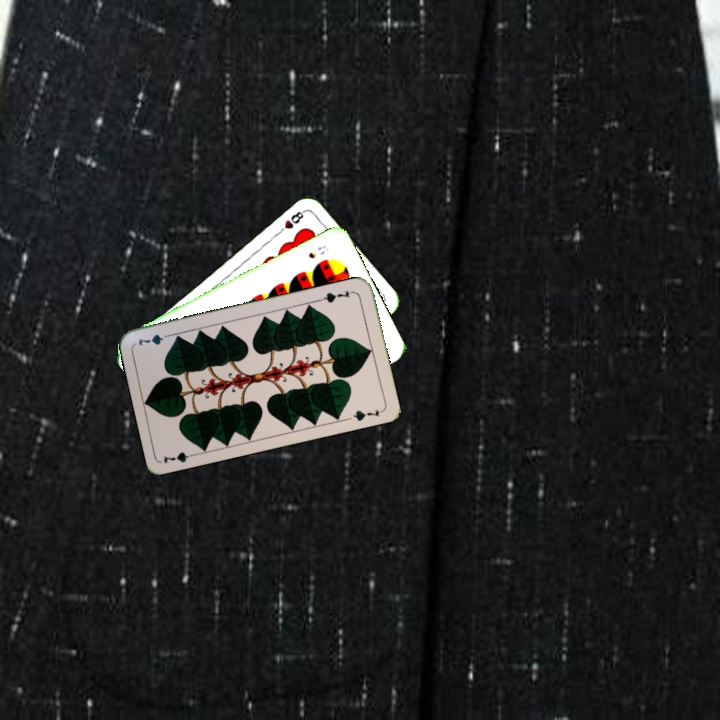G7: (317, 286, 357, 306), (160, 448, 201, 466)
H8: (274, 206, 308, 237)
S8: (304, 241, 331, 261)
